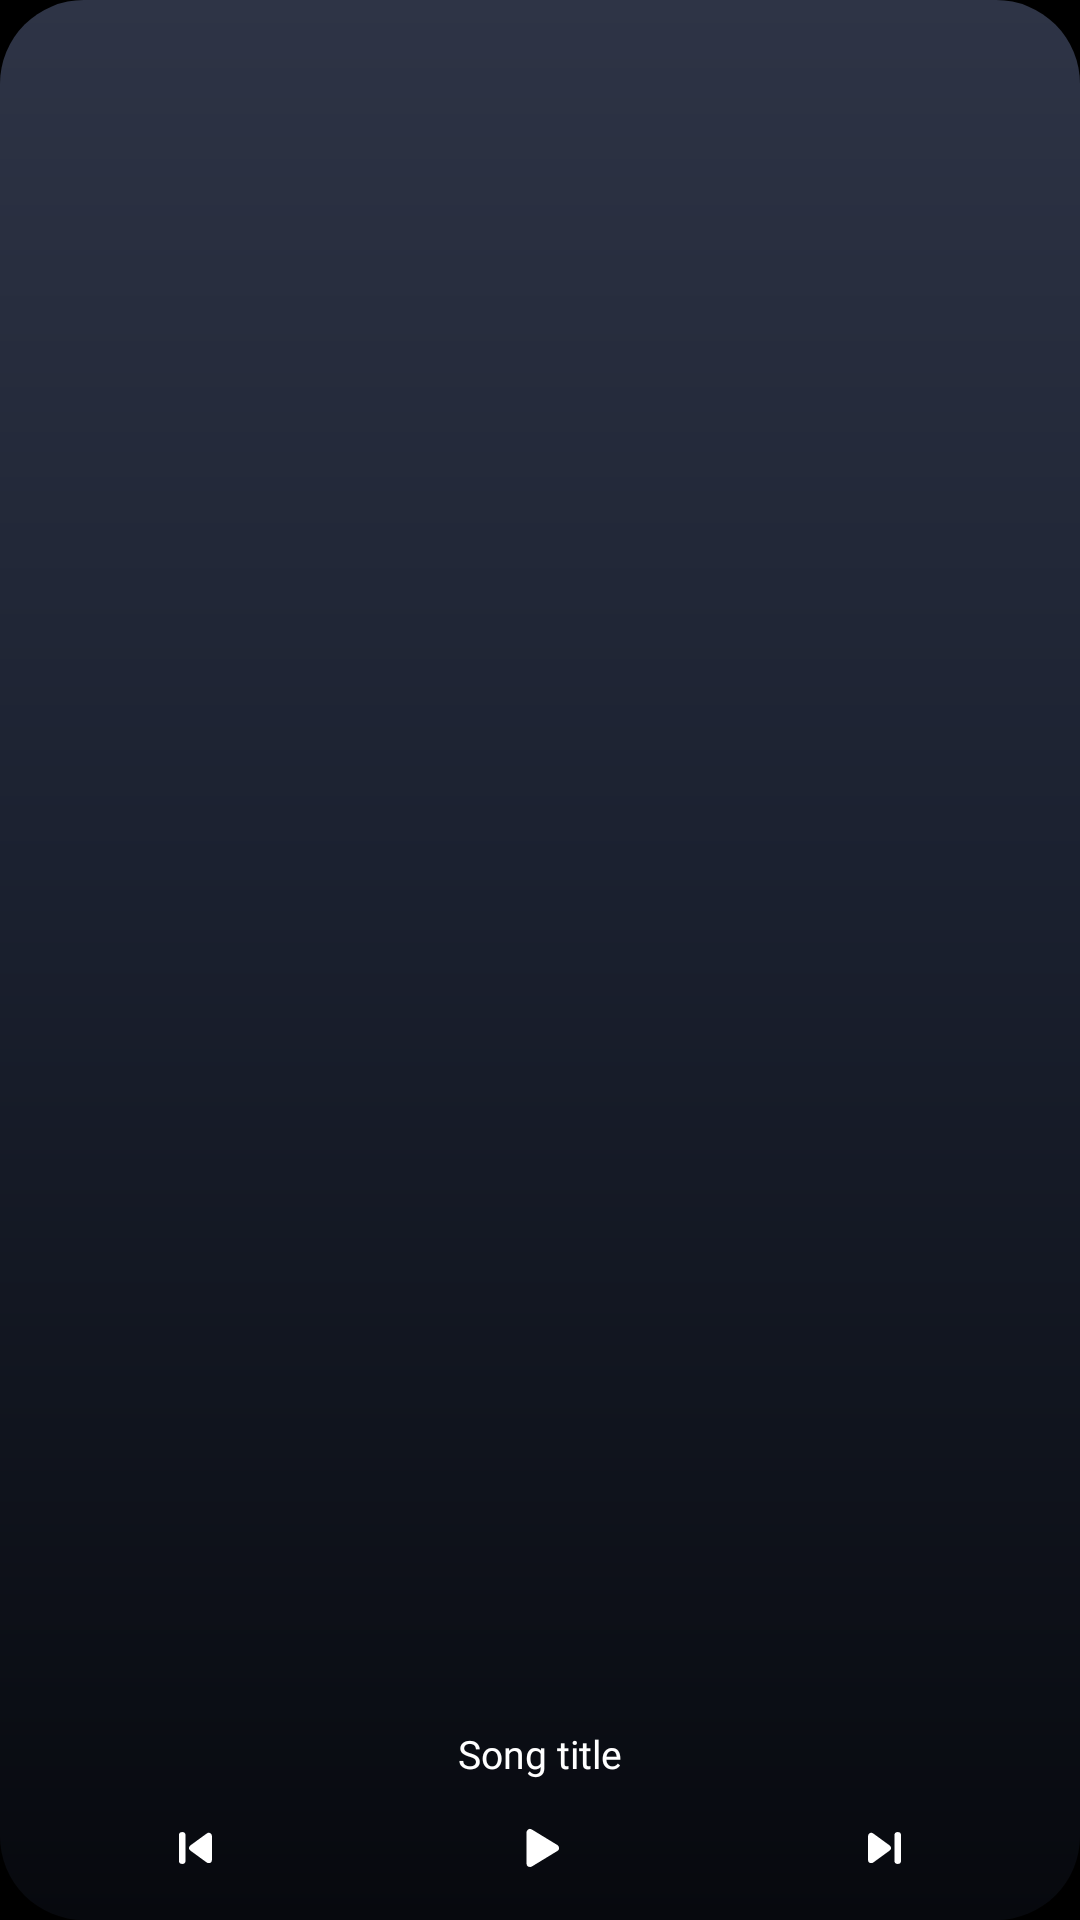

Locate icon controls on the screen. Image size 1080x1920, boxes as (x1, y1, x2, y2).
Next: (868, 1832, 901, 1864)
Play: (526, 1829, 559, 1867)
Previous: (179, 1832, 212, 1864)
